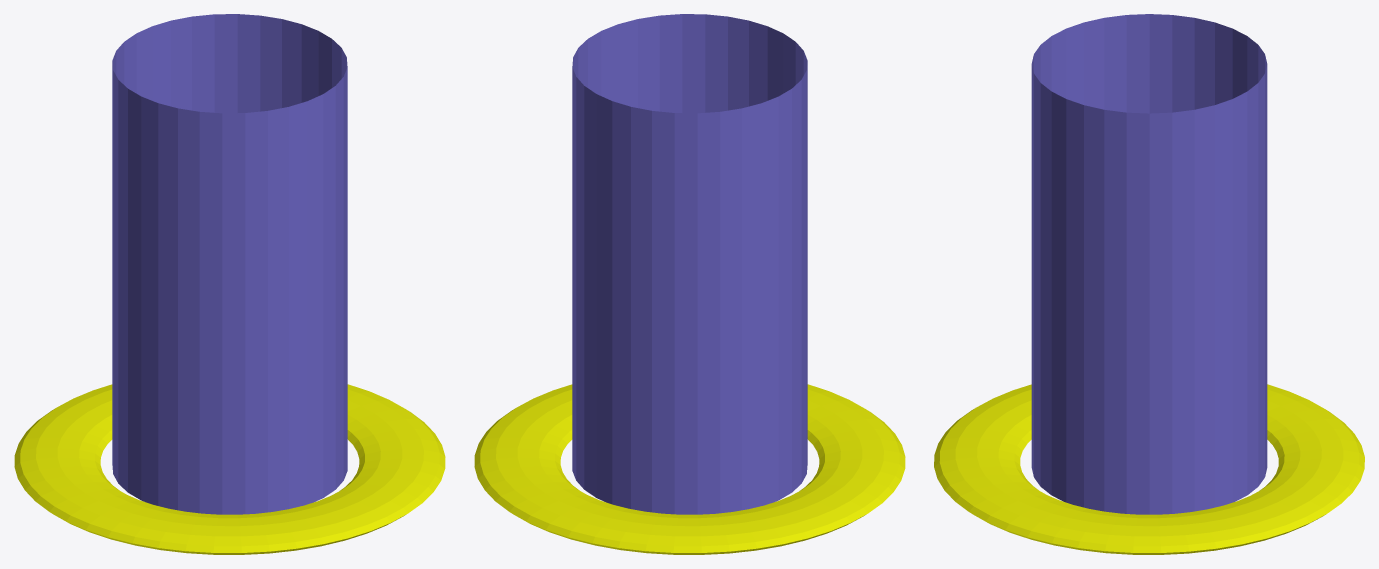
File: marker.fbx
3 renders of one model, left to right at view 1: azimuth 30°, elevation 25°; view 2: azimuth 150°, elevation 25°; view 3: azimuth 270°, elevation 25°, orthographic.
Parts seen in each view (by area): view 1: marker; view 2: marker; view 3: marker.
Part boxes in pixels (x1,y1,x2,y2): marker: (14,14,445,554); marker: (474,14,905,554); marker: (934,14,1364,554).
Size of the model in its own units: 285 by 297 by 285.
